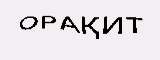В: (66, 22, 80, 49), (36, 19, 49, 41)
З: (96, 20, 119, 49)
Ш: (49, 24, 66, 44)
Я: (80, 24, 100, 54)
